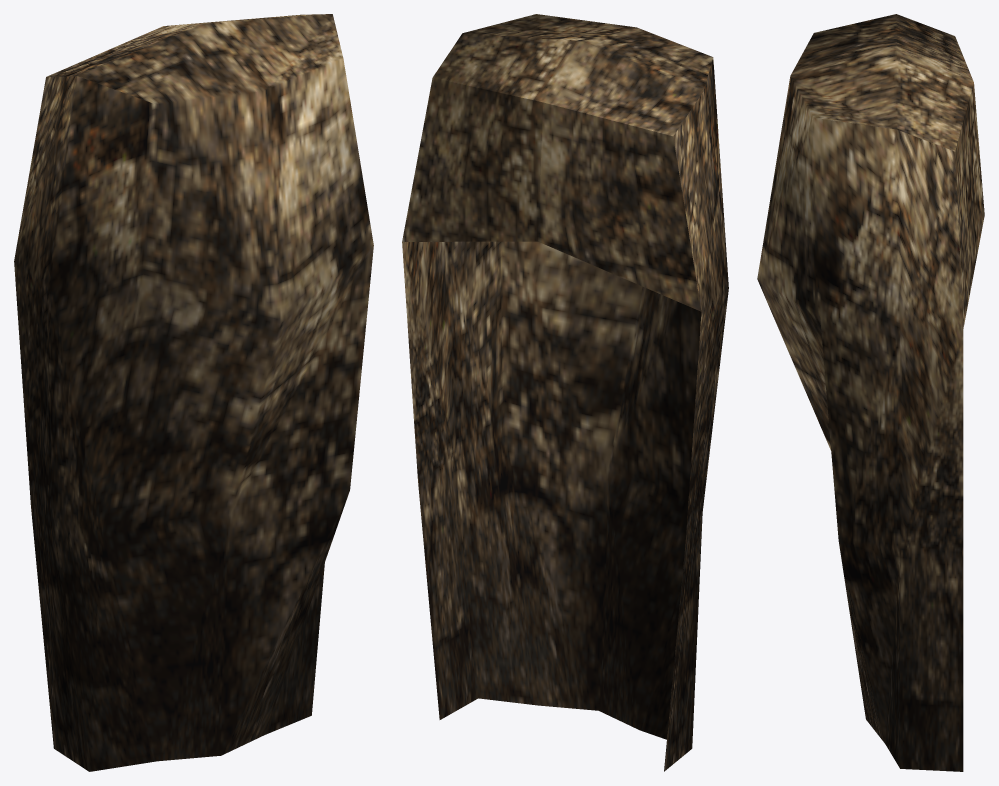
3 renders of one model, left to right at view 1: azimuth 30°, elevation 25°; view 2: azimuth 150°, elevation 25°; view 3: azimuth 270°, elevation 25°, orthographic. The views are drawn at different scales.
Visible parts, largest first — view 1: SMDImport; view 2: SMDImport; view 3: SMDImport.
Part boxes in pixels (x1=…): SMDImport: x1=14, y1=14, x2=373, y2=771; SMDImport: x1=402, y1=14, x2=728, y2=771; SMDImport: x1=757, y1=14, x2=984, y2=771.
Size of the model in its own units: 386 by 847 by 261.
